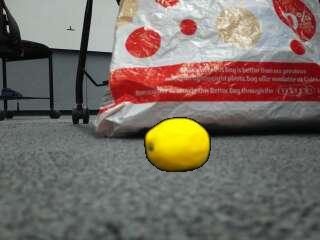lemon: (145, 119, 209, 172)
